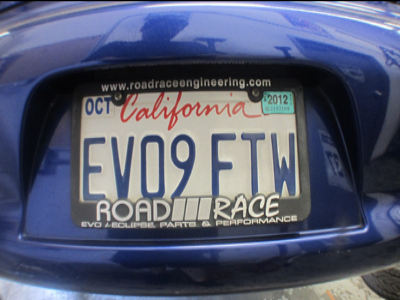licence: (72, 80, 308, 222)
